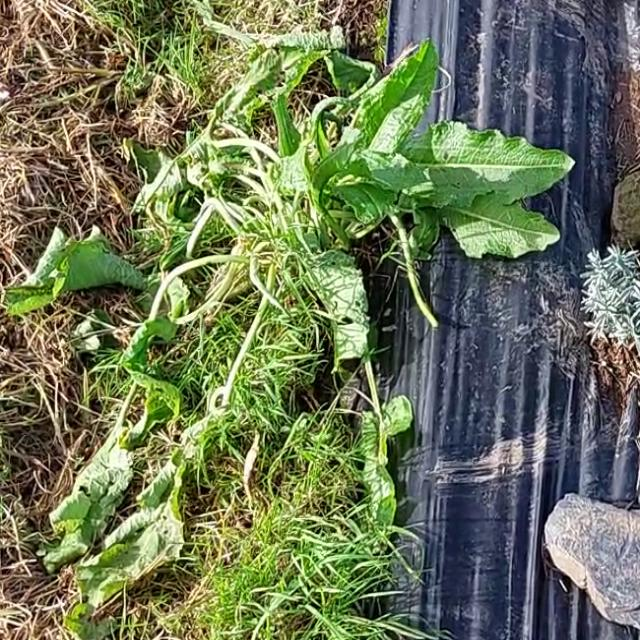organic waste: (145, 56, 578, 300), (245, 208, 485, 534), (68, 337, 241, 614), (17, 220, 200, 363)
